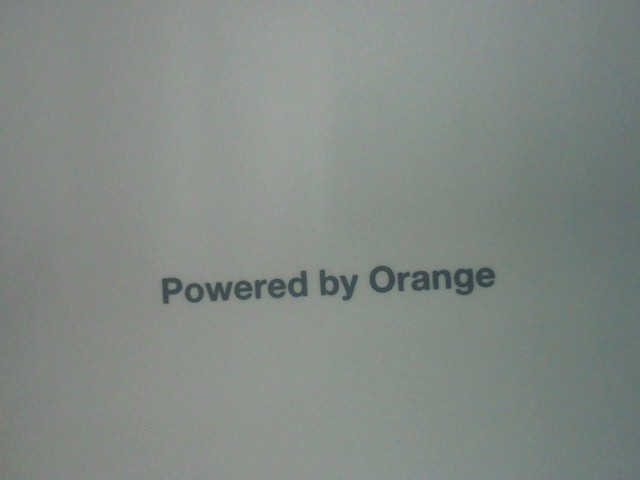AS_PowerByOrange: (152, 258, 507, 306)
